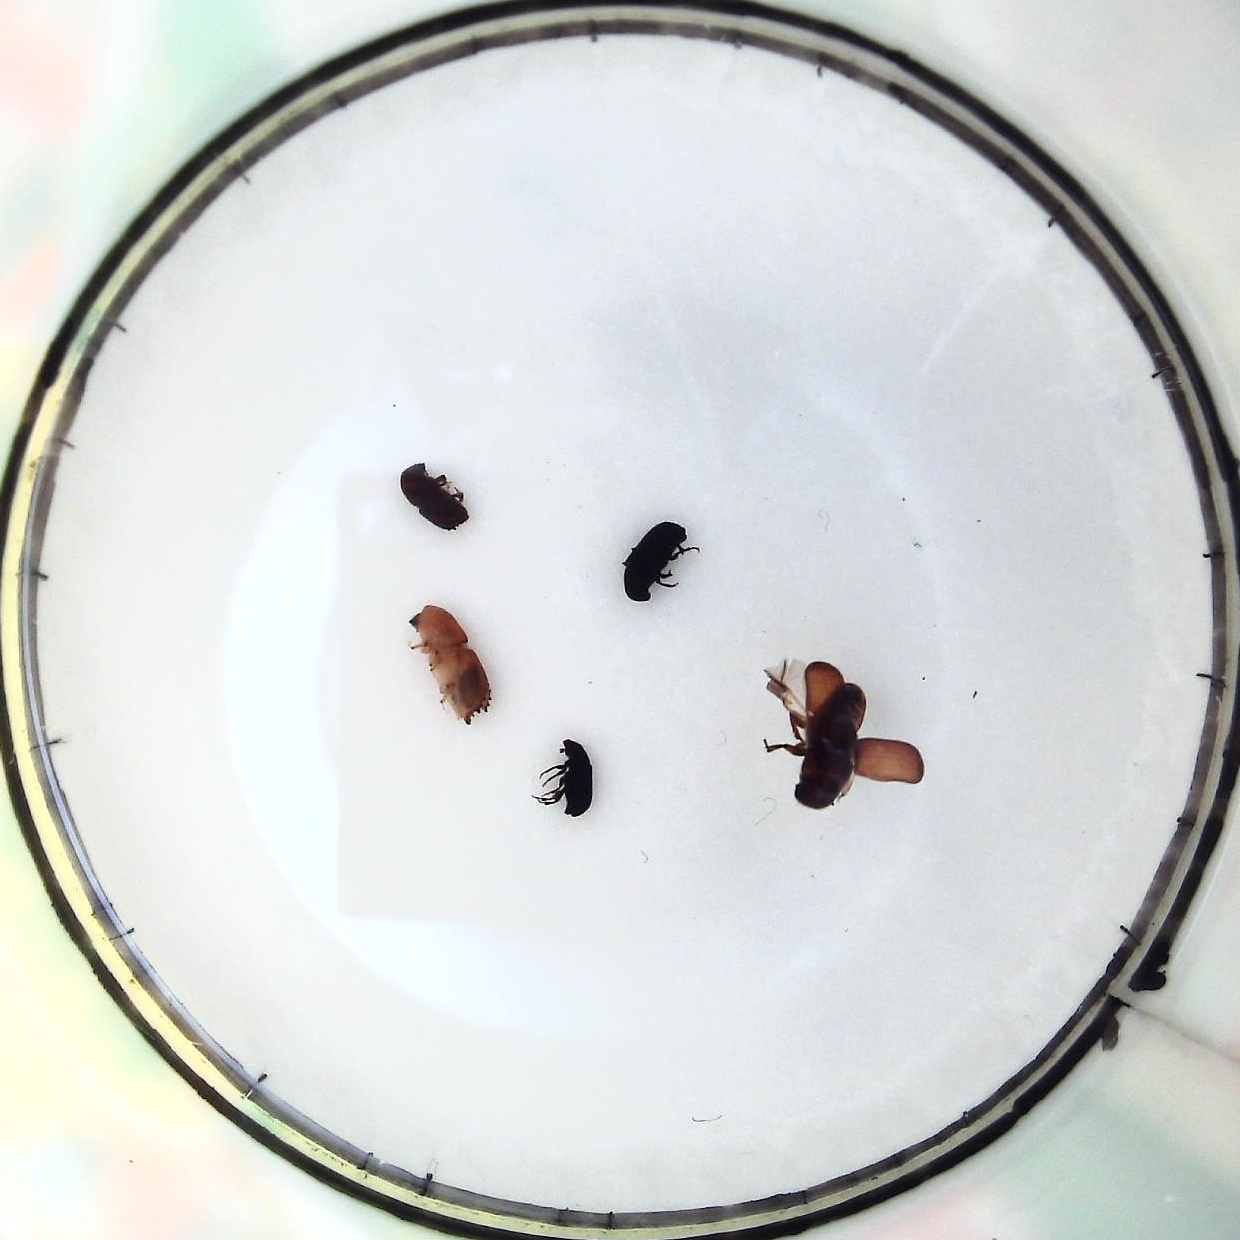Boerner: (408, 605, 493, 721)
Leconte: (762, 657, 925, 808)
Linnaeus: (396, 461, 469, 527)
armandi: (617, 523, 696, 600)
coleoptera: (539, 739, 600, 818)
